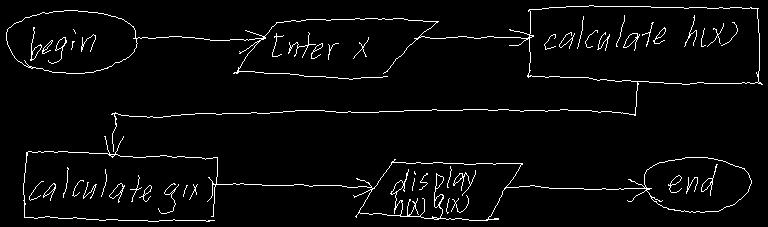arrow: (104, 81, 638, 157), (504, 179, 651, 201), (212, 178, 374, 197), (133, 30, 265, 53), (414, 29, 533, 45)
data: (233, 18, 438, 79), (355, 159, 522, 220)
process: (527, 5, 762, 84), (23, 151, 217, 221)
terminator: (6, 10, 137, 73), (644, 157, 751, 212)
text: (29, 167, 212, 213), (544, 15, 737, 50), (390, 166, 475, 219), (272, 32, 368, 59), (30, 27, 95, 63), (668, 164, 717, 195)
